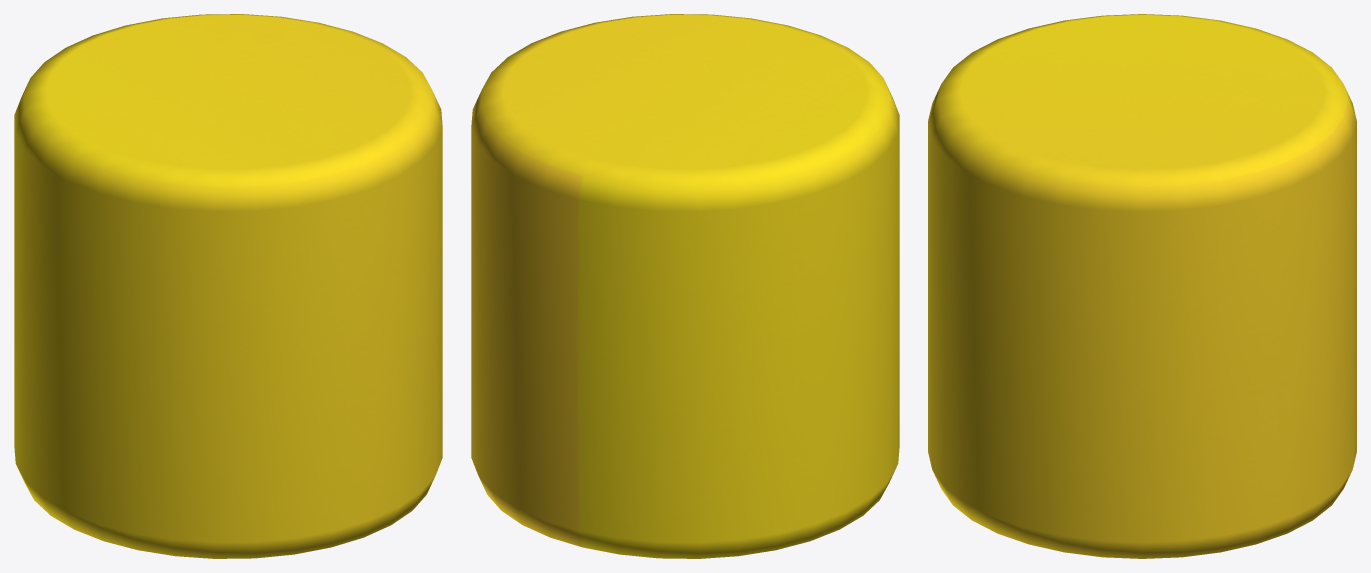
Rendered from BlockBarrelYellow.fbx.
The picture shows the model from 3 angles, left to right: view 1: azimuth 30°, elevation 25°; view 2: azimuth 150°, elevation 25°; view 3: azimuth 270°, elevation 25°; orthographic projection.
Visible parts, largest first — view 1: Cylinder.002; view 2: Cylinder.002; view 3: Cylinder.002.
Part boxes in pixels (x1=…): Cylinder.002: x1=14, y1=14, x2=442, y2=558; Cylinder.002: x1=471, y1=14, x2=899, y2=558; Cylinder.002: x1=928, y1=14, x2=1356, y2=558.
Size of the model in its own units: 200 by 200 by 200.
